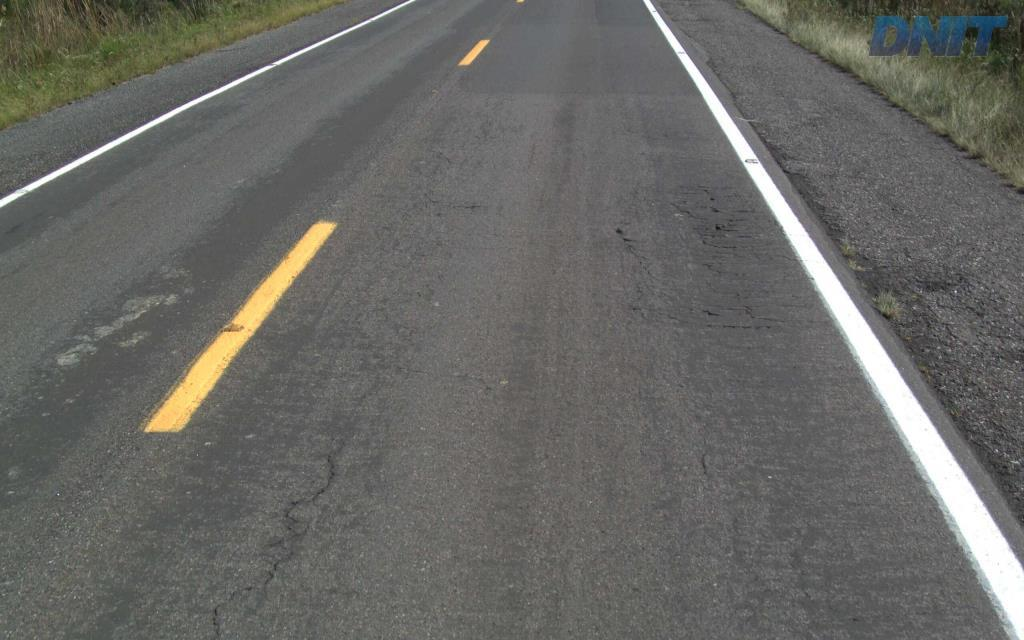crack: (670, 202, 746, 251)
